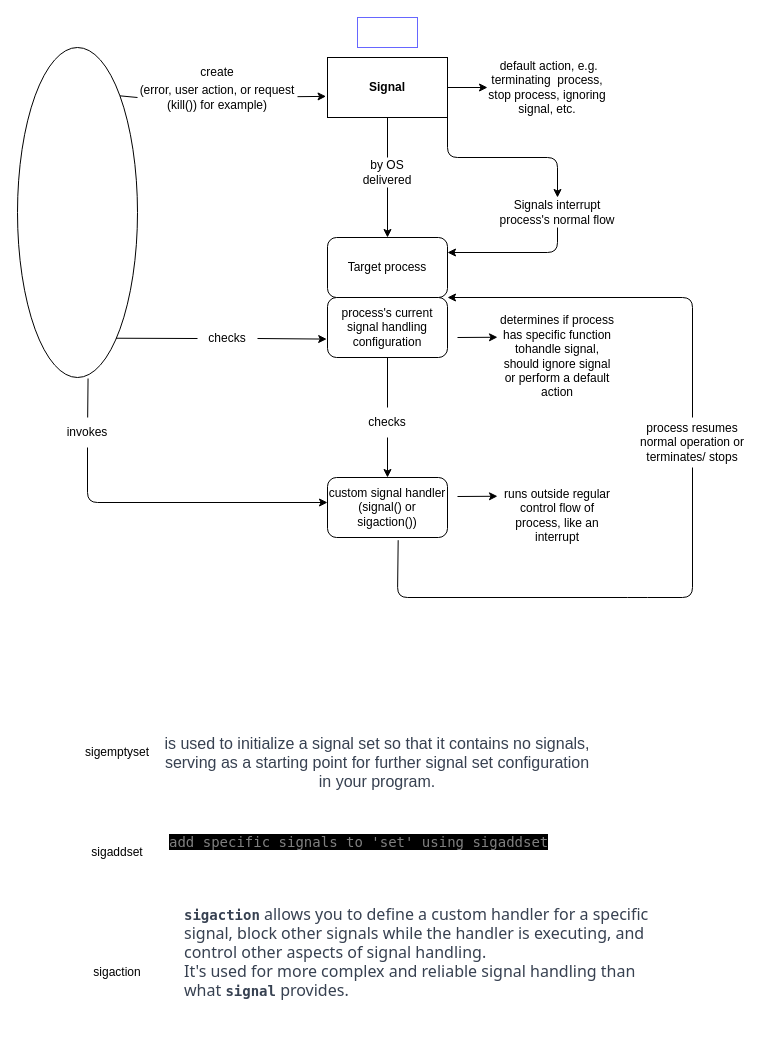
Image size: 775x1038. Some labels were removed from this diagram. Each missing label, with the box of its shape:
OS: (16, 46, 138, 378)
SIGUSR1: (356, 16, 418, 48)
